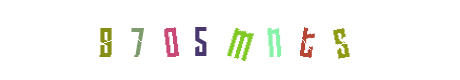5: (175, 0, 255, 80)
7: (160, 0, 240, 80)
9: (109, 0, 189, 80)
M: (190, 0, 270, 80)
N: (193, 0, 273, 80)
O: (173, 0, 253, 80)
S: (233, 0, 313, 80)
T: (200, 0, 280, 80)
